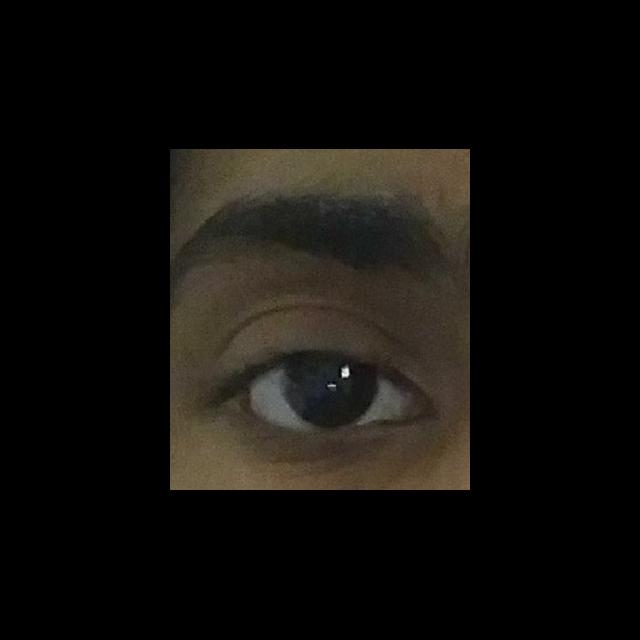eye: (251, 352, 406, 434)
iris: (283, 354, 380, 429)
